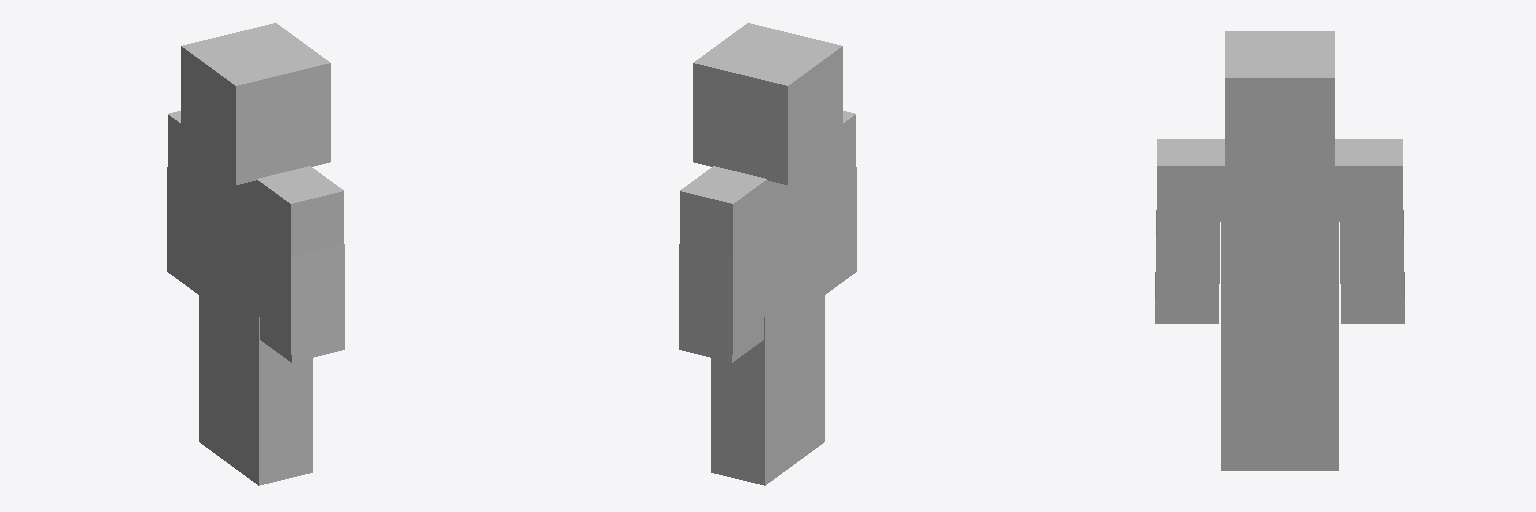
Rendered from Baradiel prototype.obj.
3 renders of one model, left to right at view 1: azimuth 30°, elevation 25°; view 2: azimuth 150°, elevation 25°; view 3: azimuth 270°, elevation 25°, orthographic.
Visible parts, largest first — view 1: Body, Head; view 2: Body, Head; view 3: Body, Head.
Boxes of the visible parts, x1,y1,x2,y2 form: Body: [167, 111, 344, 485]; Head: [181, 23, 330, 184]; Body: [679, 111, 856, 485]; Head: [693, 23, 842, 184]; Body: [1155, 139, 1404, 470]; Head: [1225, 31, 1334, 176].
Size of the model in its own units: 2.34 by 9.48 by 5.33.